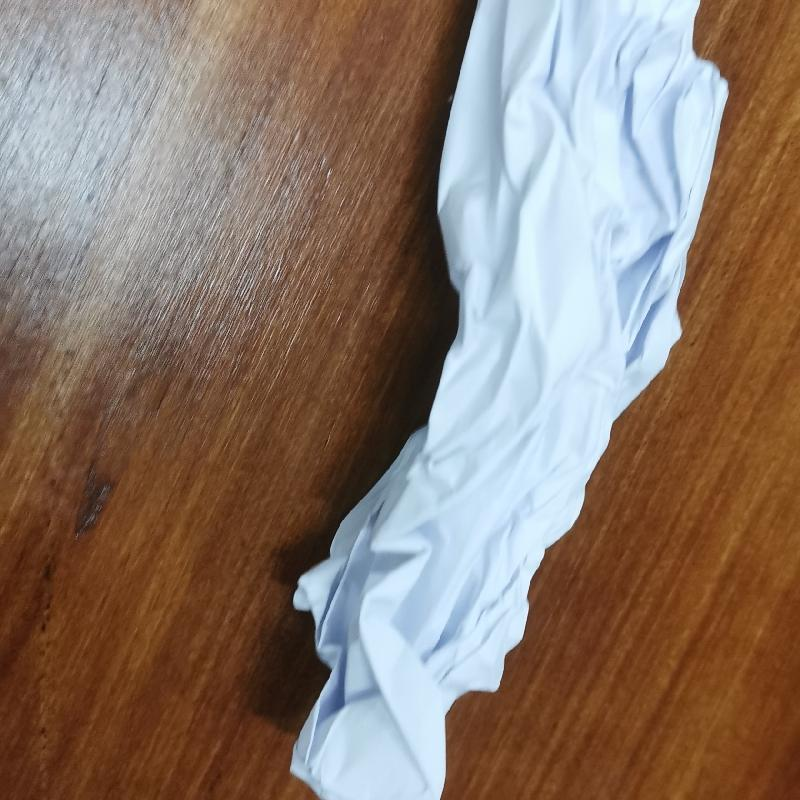spitball: (281, 4, 731, 799)
